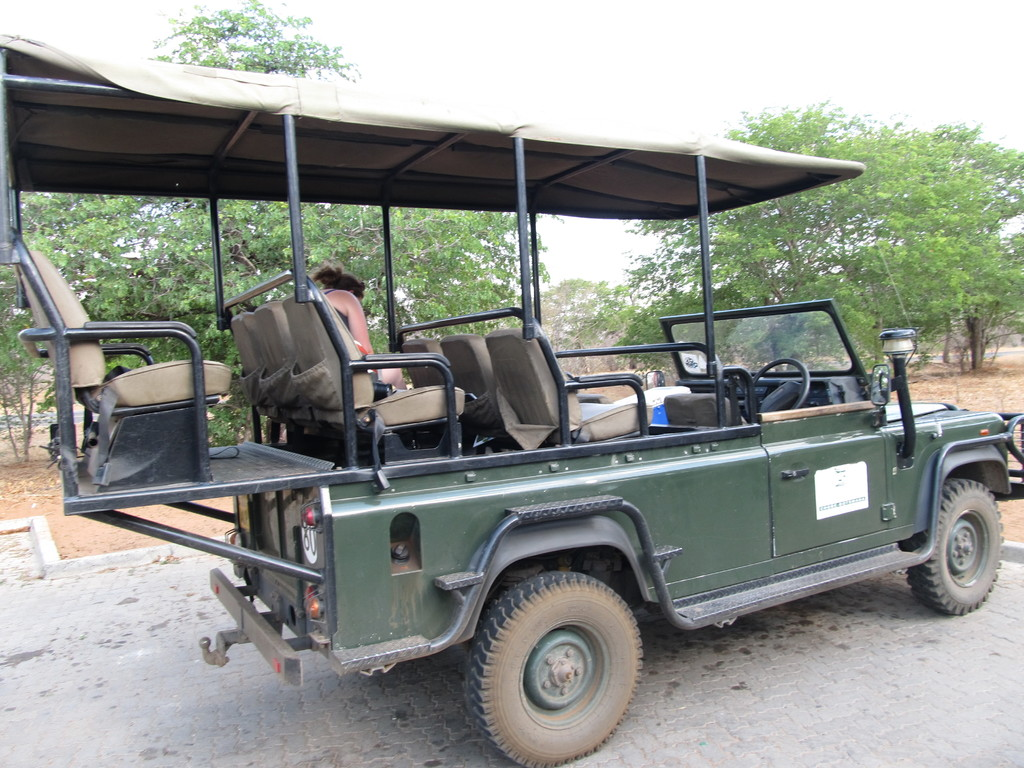Person: (311, 260, 406, 389)
